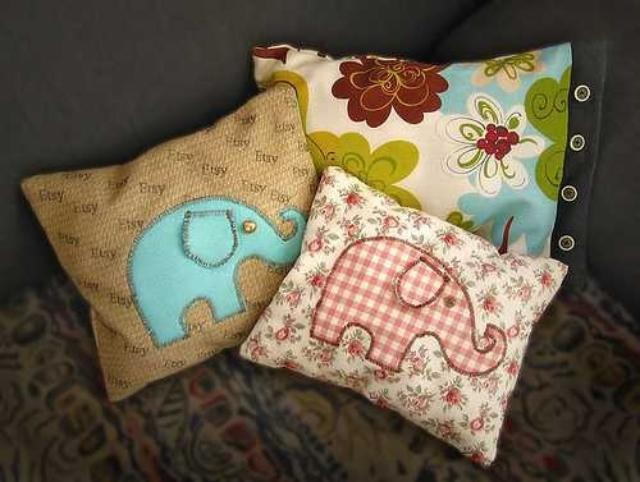pillow: (237, 164, 568, 470), (19, 71, 318, 403), (251, 40, 574, 258)
